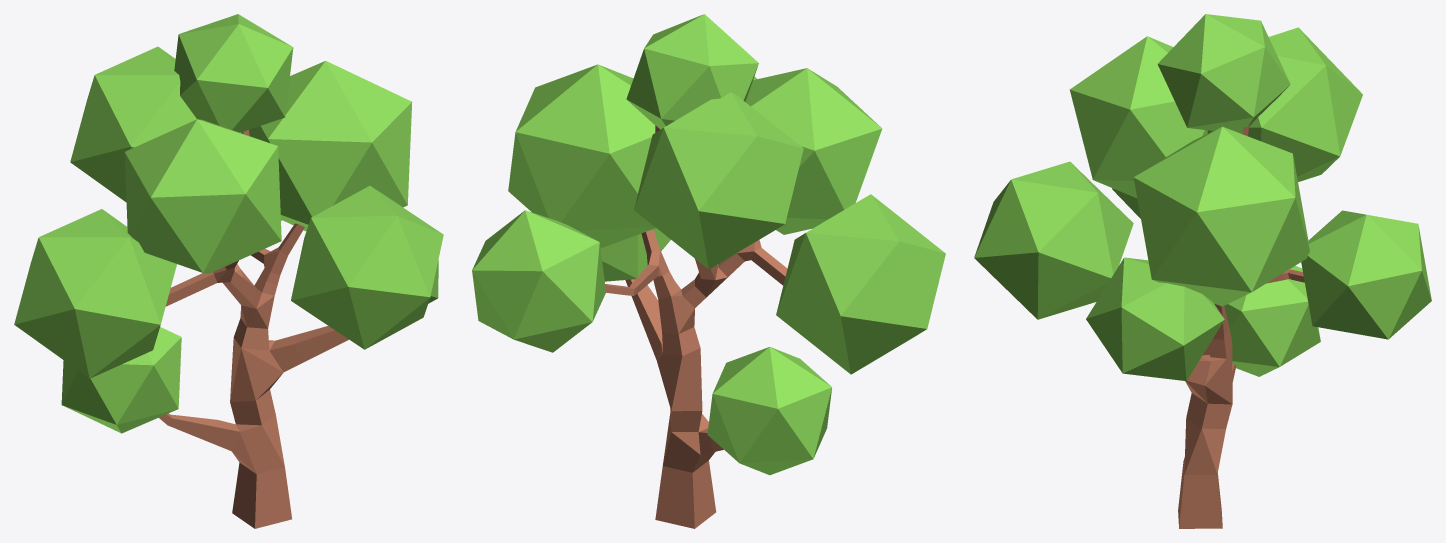
File: tree2.fbx
3 views of the same model, side by side, from view 1: azimuth 30°, elevation 25°; view 2: azimuth 150°, elevation 25°; view 3: azimuth 270°, elevation 25° (orthographic). The views are drawn at different scales.
Parts seen in each view (by area): view 1: Tree2.001; view 2: Tree2.001; view 3: Tree2.001.
Boxes of the visible parts, <box> form: Tree2.001: <box>14,14,443,528</box>; Tree2.001: <box>472,14,945,528</box>; Tree2.001: <box>974,14,1431,528</box>.
Size of the model in its own units: 597 by 713 by 589.
